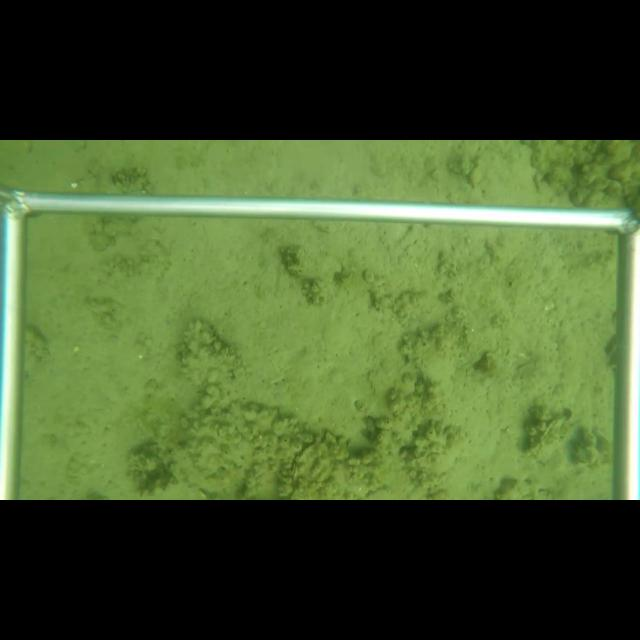Oyster-Closed: (291, 440, 330, 490), (526, 413, 563, 454)
